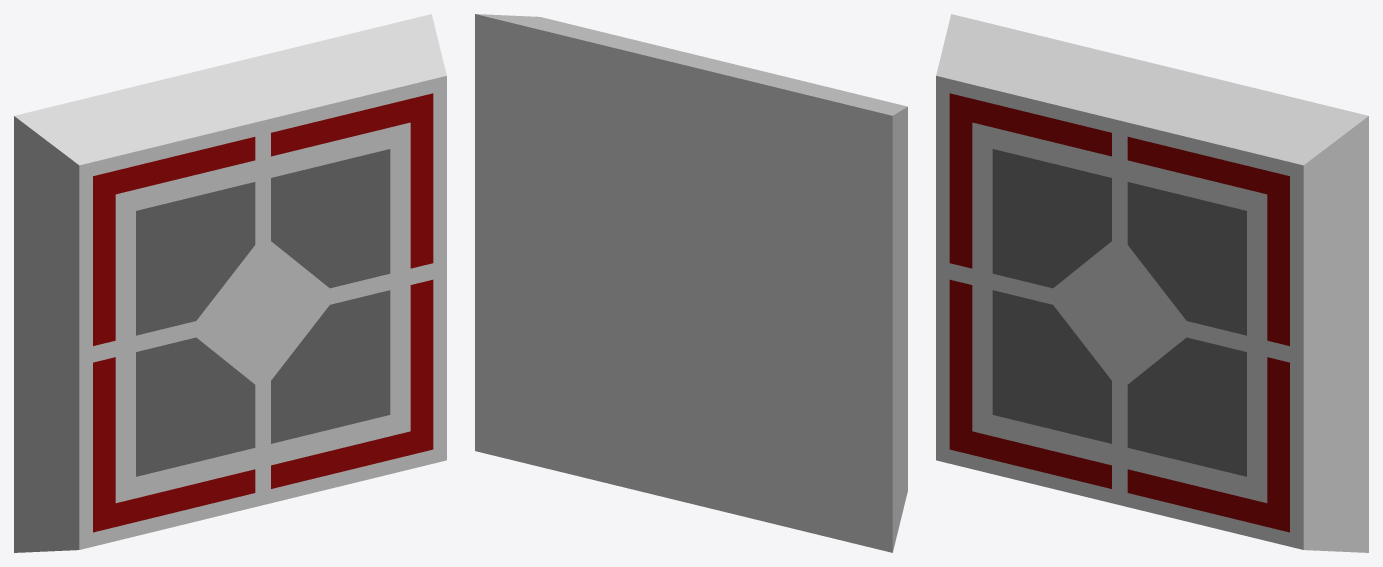
Rendered from SciFi_Modular_Semiotic_Laser_01.fbx.
3 views of the same model, side by side, from view 1: azimuth 30°, elevation 25°; view 2: azimuth 150°, elevation 25°; view 3: azimuth 330°, elevation 25° (orthographic).
Parts seen in each view (by area): view 1: SciFi_Modular_Semiotic_Laser_01; view 2: SciFi_Modular_Semiotic_Laser_01; view 3: SciFi_Modular_Semiotic_Laser_01.
Boxes of the visible parts, box(x1,y1,x2,y2) form: SciFi_Modular_Semiotic_Laser_01: box(14, 14, 446, 552); SciFi_Modular_Semiotic_Laser_01: box(475, 14, 907, 552); SciFi_Modular_Semiotic_Laser_01: box(936, 14, 1368, 552).
Size of the model in its own units: 21.12 by 21.12 by 3.52.
